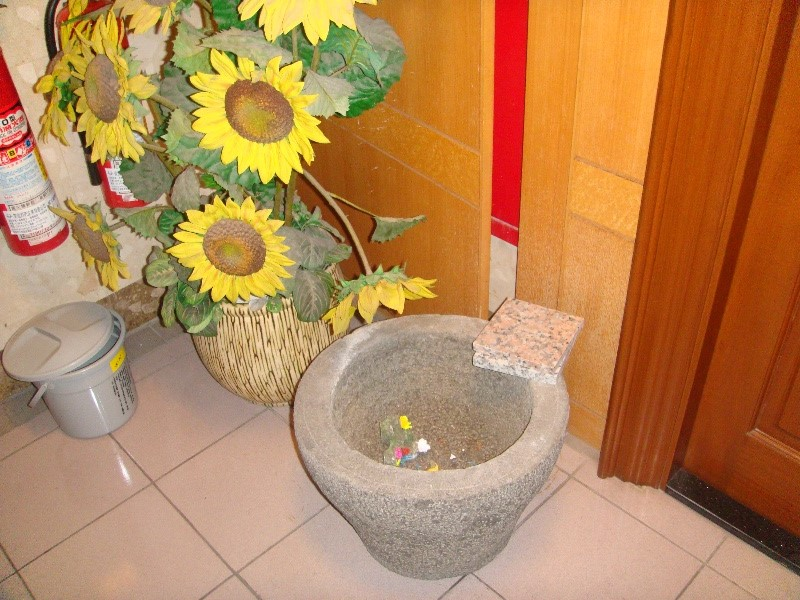bowl: (289, 310, 574, 582)
bucket: (1, 300, 141, 441)
